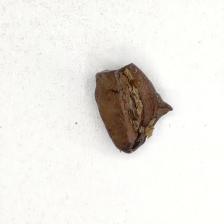NG: (127, 97, 173, 156), (97, 59, 135, 81)
